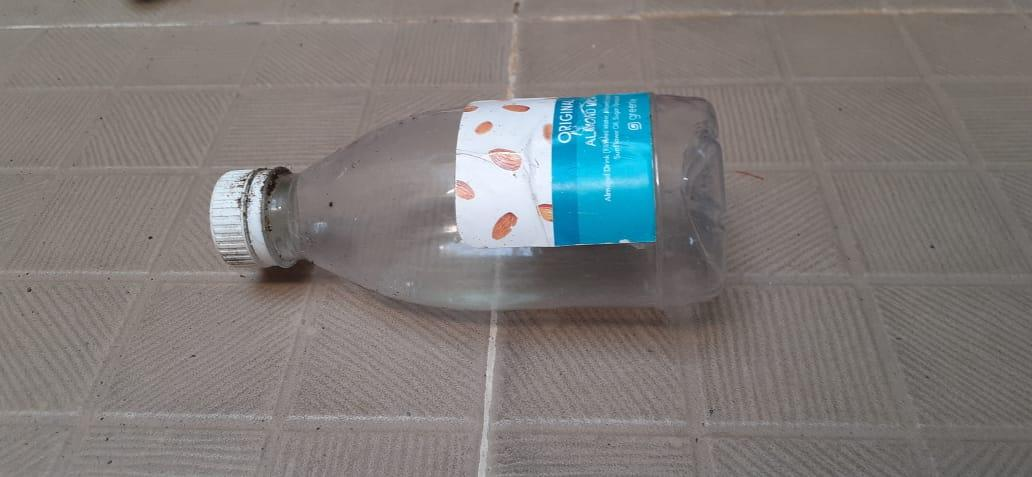Plastik: (211, 93, 730, 312)
